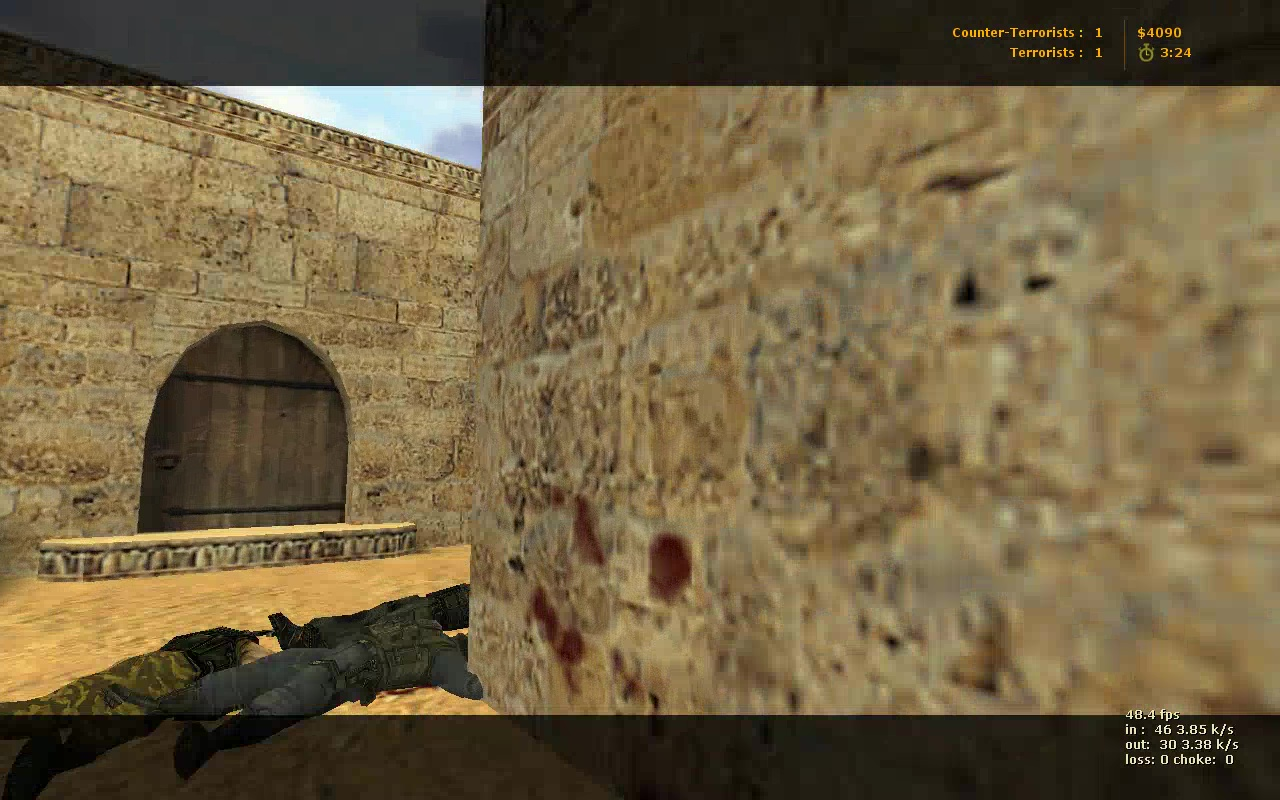dead: (100, 620, 479, 783), (1, 625, 278, 794), (269, 581, 491, 651)
